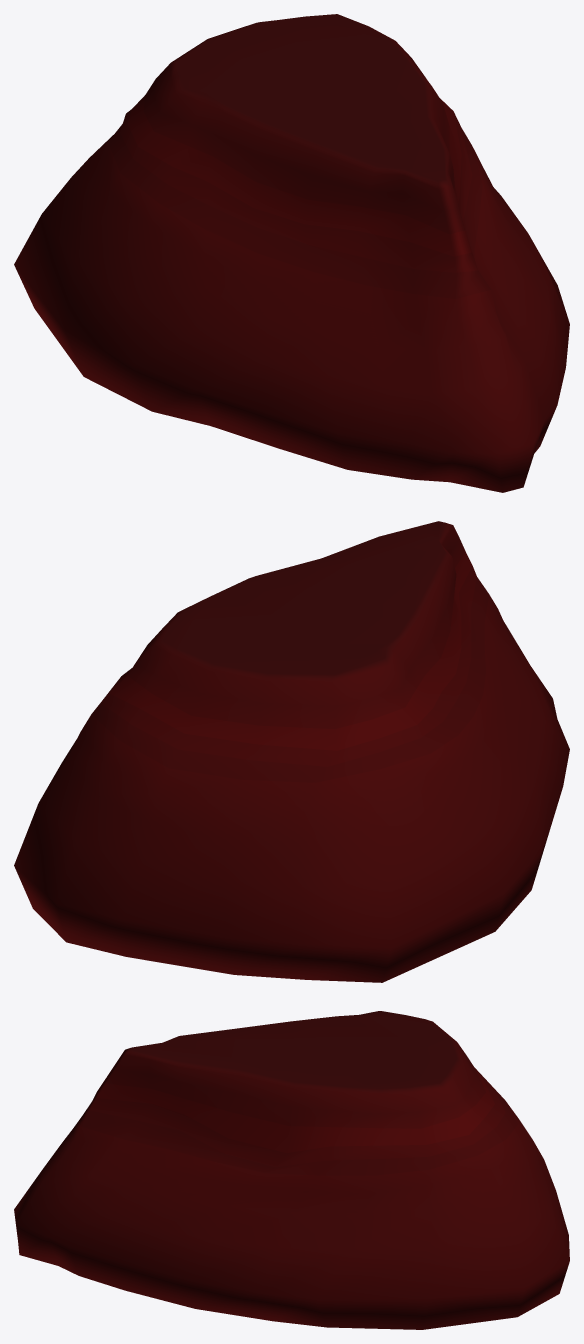
The model's file is geology-landforms-aliencliff_v3.fbx.
The picture shows the model from 3 angles, top to bottom: view 1: azimuth 30°, elevation 25°; view 2: azimuth 150°, elevation 25°; view 3: azimuth 270°, elevation 25°; orthographic projection. The views are drawn at different scales.
Parts seen in each view (by area): view 1: AlienCliff_v3; view 2: AlienCliff_v3; view 3: AlienCliff_v3.
Part boxes in pixels (bbox=[...]): AlienCliff_v3: bbox=[14, 14, 569, 492]; AlienCliff_v3: bbox=[14, 521, 569, 982]; AlienCliff_v3: bbox=[14, 1011, 569, 1329].
Bounding box in the file's own units: 50.87 × 28.55 × 71.14.
